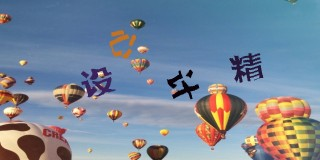心: (108, 29, 136, 59)
精: (229, 51, 264, 83)
计: (165, 67, 200, 102)
设: (80, 66, 115, 98)
